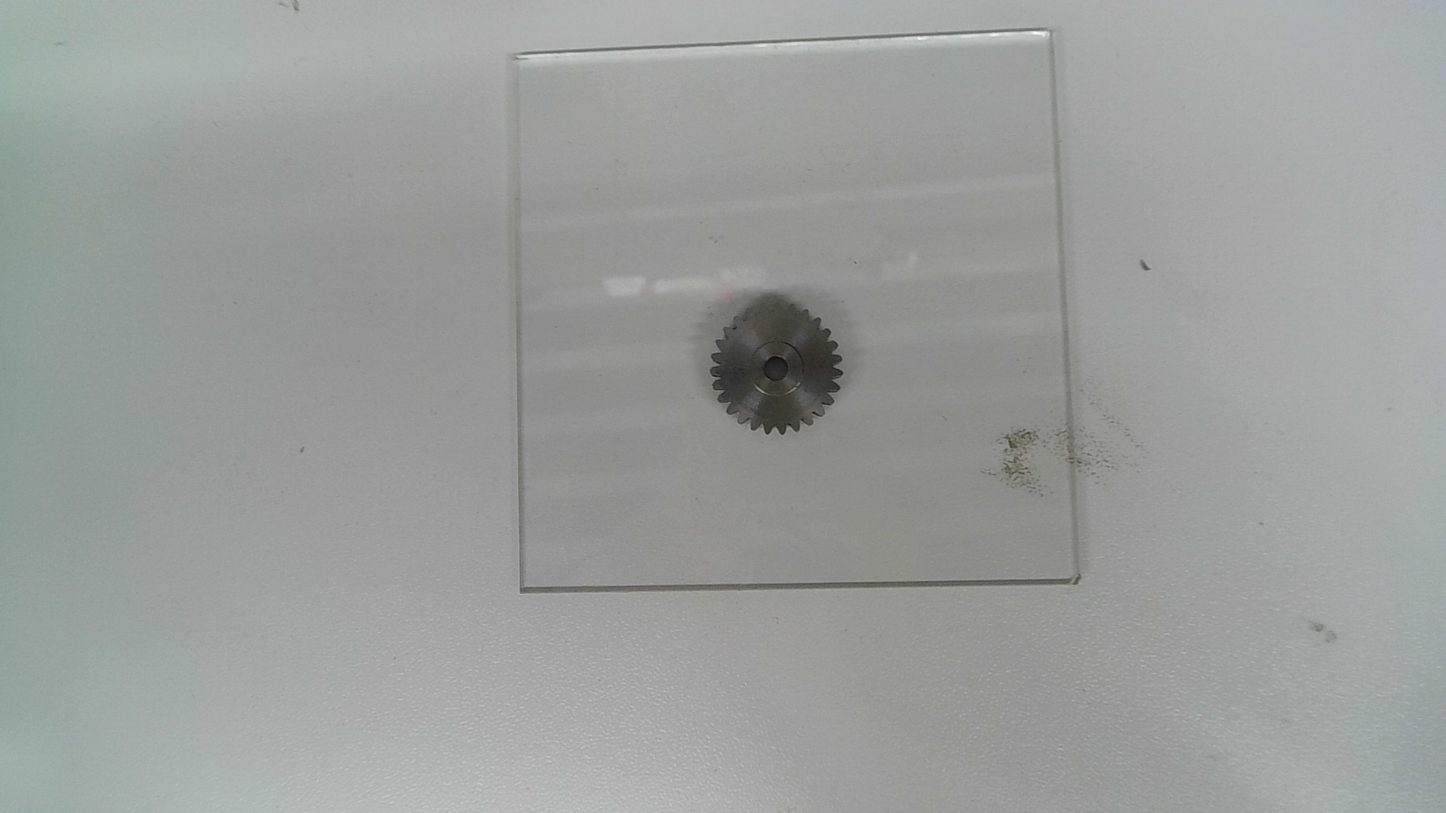gear: (708, 296, 847, 438)
